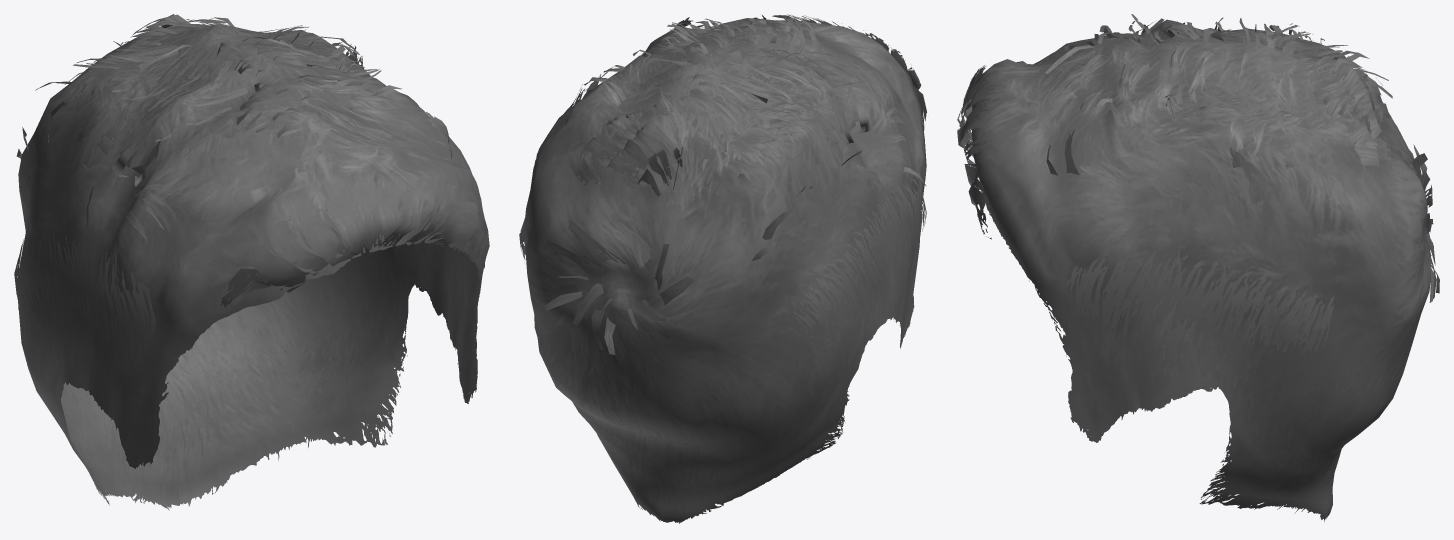
Rendered from short01.glb.
The picture shows the model from 3 angles, left to right: view 1: azimuth 30°, elevation 25°; view 2: azimuth 150°, elevation 25°; view 3: azimuth 270°, elevation 25°; orthographic projection. The views are drawn at different scales.
Parts seen in each view (by area): view 1: editor_short01; view 2: editor_short01; view 3: editor_short01.
Part boxes in pixels (x1,y1,x2,y2): editor_short01: (14, 14, 489, 510); editor_short01: (519, 14, 926, 523); editor_short01: (957, 14, 1439, 521).
Size of the model in its own units: 0.1493 by 0.2017 by 0.1817.
1 material, 1 textured.
